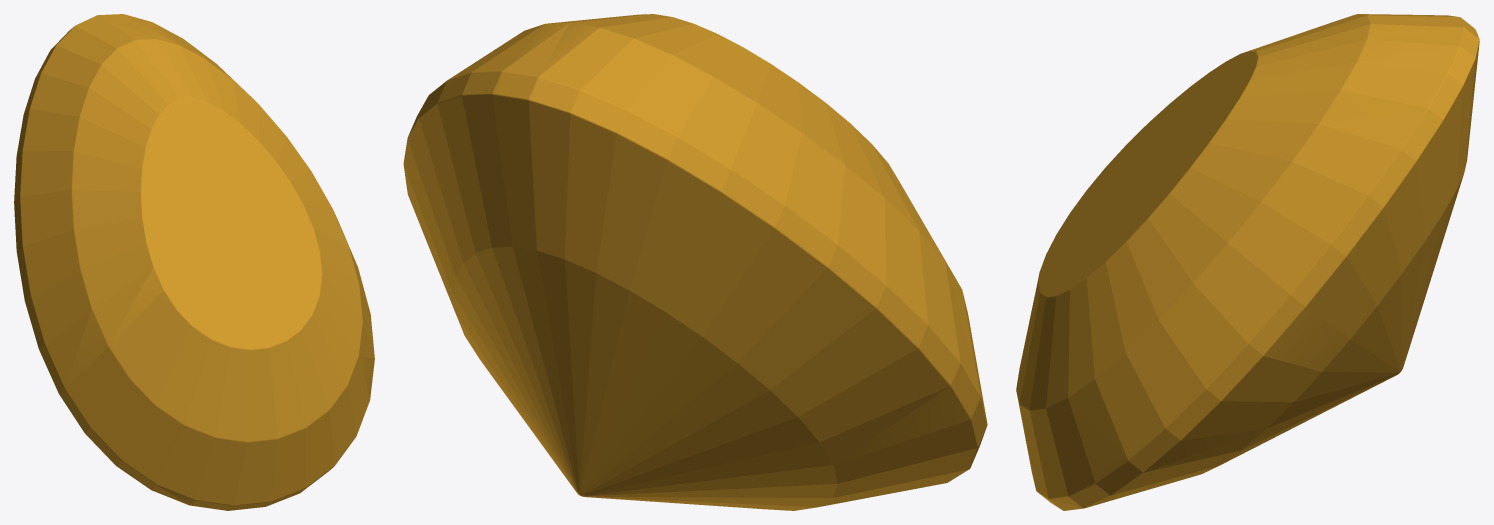
Rendered from citrine.glb.
The picture shows the model from 3 angles, left to right: view 1: azimuth 30°, elevation 25°; view 2: azimuth 150°, elevation 25°; view 3: azimuth 270°, elevation 25°; orthographic projection. The views are drawn at different scales.
Visible parts, largest first — view 1: citrine.001; view 2: citrine.001; view 3: citrine.001.
Part boxes in pixels (left/top/right/bottom): citrine.001: left=14, top=14, right=374, bottom=510; citrine.001: left=403, top=14, right=987, bottom=510; citrine.001: left=1016, top=14, right=1479, bottom=510.
Size of the model in its own units: 1.57 by 1.78 by 1.62.
